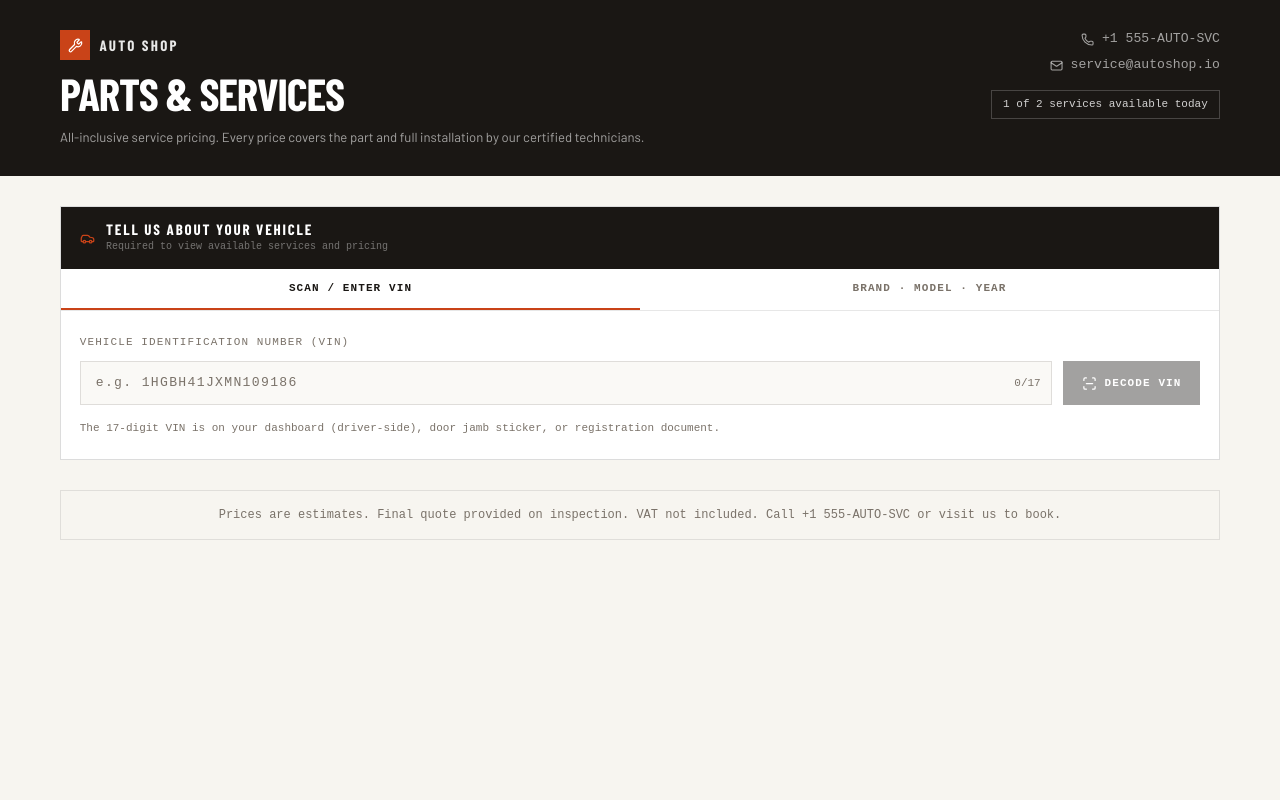
Test case: CustomerPortal vehicle gate › lists services from a manual brand, model and year selection
The width and height of the screenshot is (1280, 800).
Click the button "Brand · Model · Year": (930,290) [640, 269, 1219, 310]
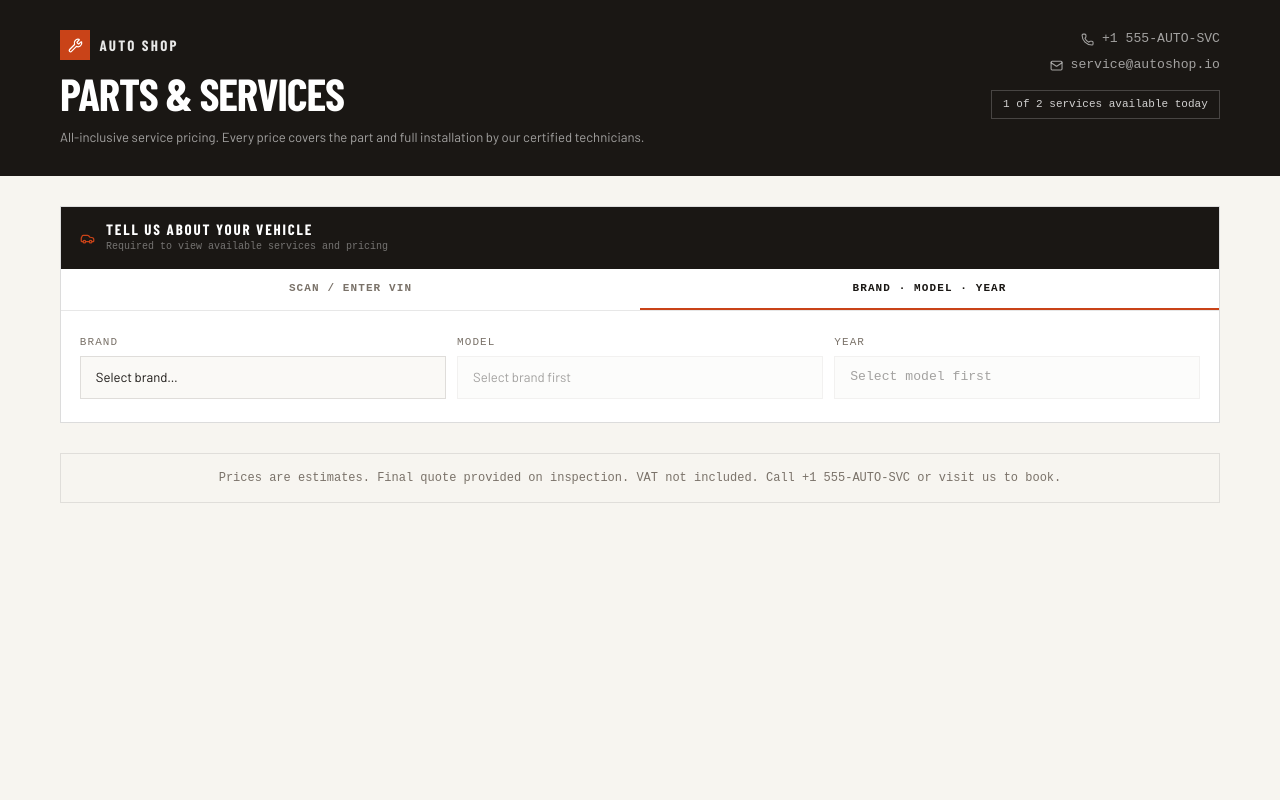
Select "Ford" in the dropdown named "Brand": (263,377) [80, 356, 446, 399]
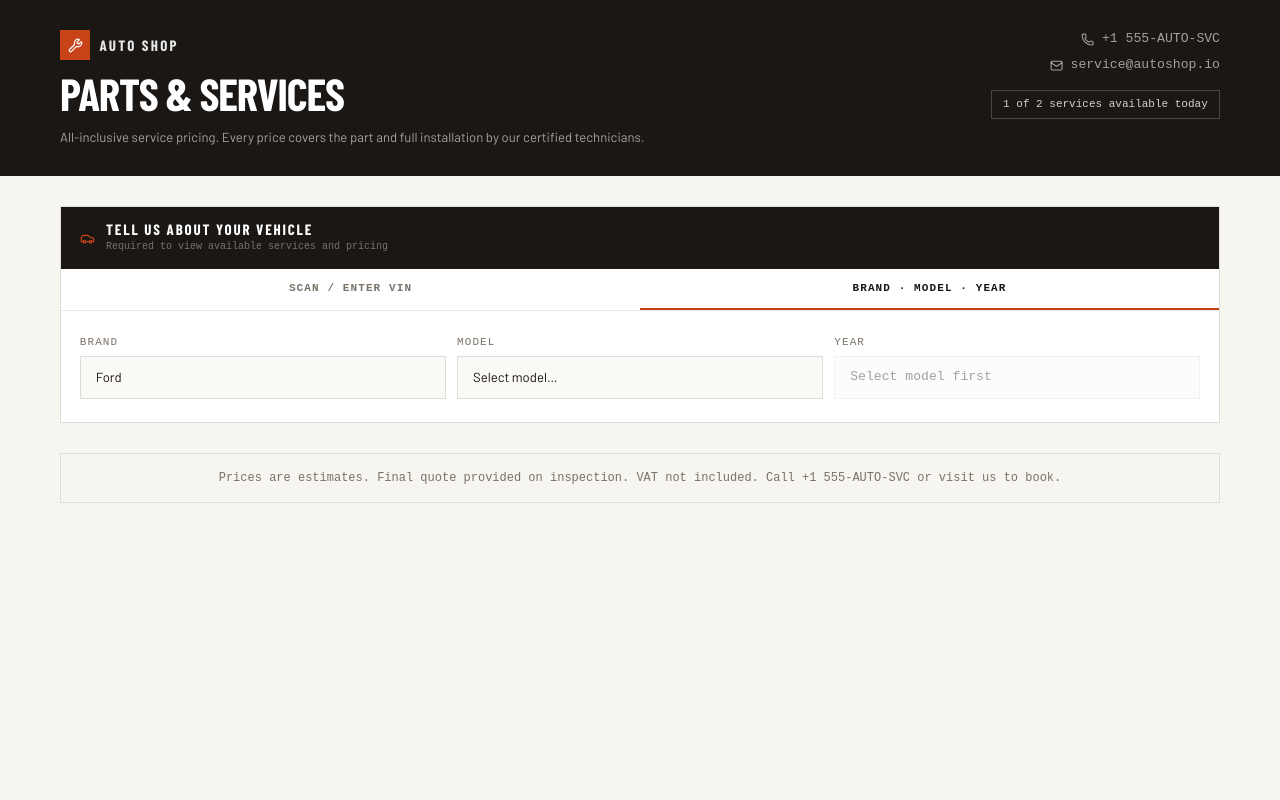
Select "F-150" in the dropdown named "Model": (640,377) [457, 356, 823, 399]
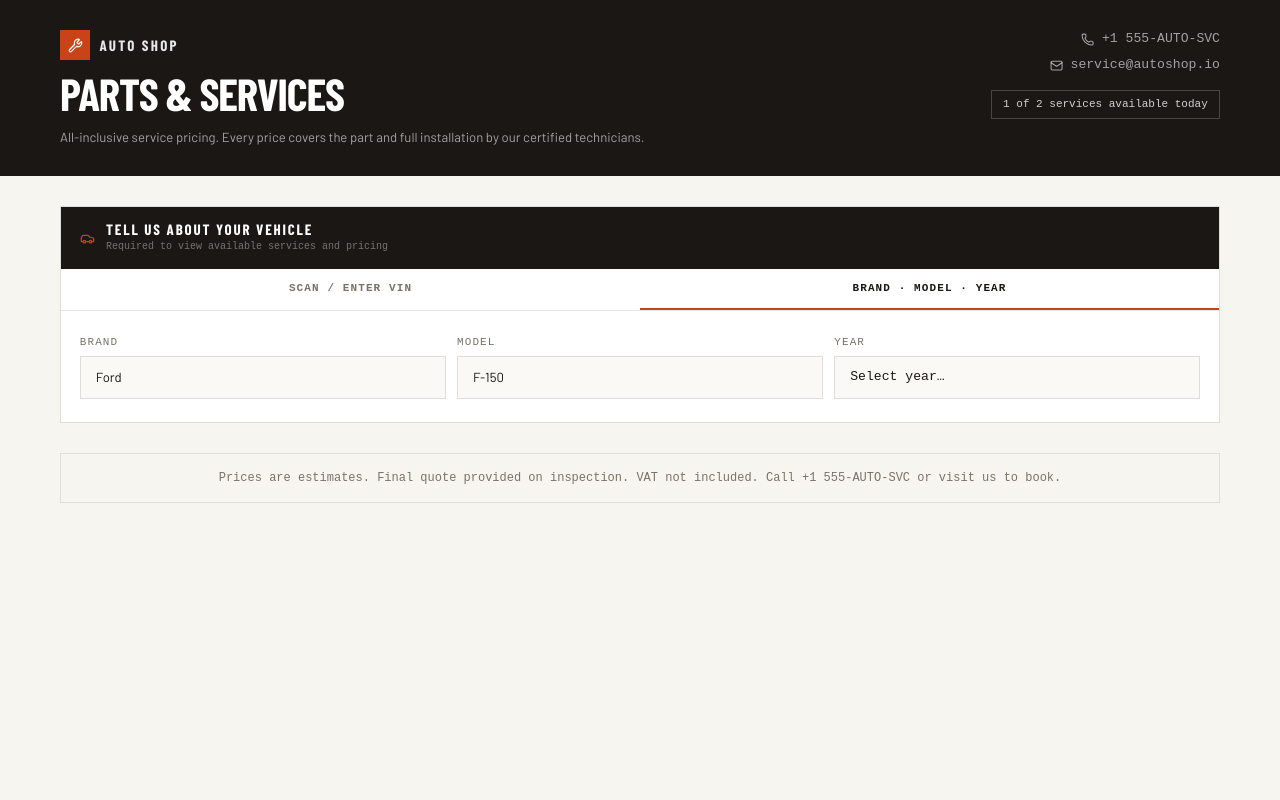
Select "2021" in the dropdown named "Year": (1017,377) [834, 356, 1200, 399]
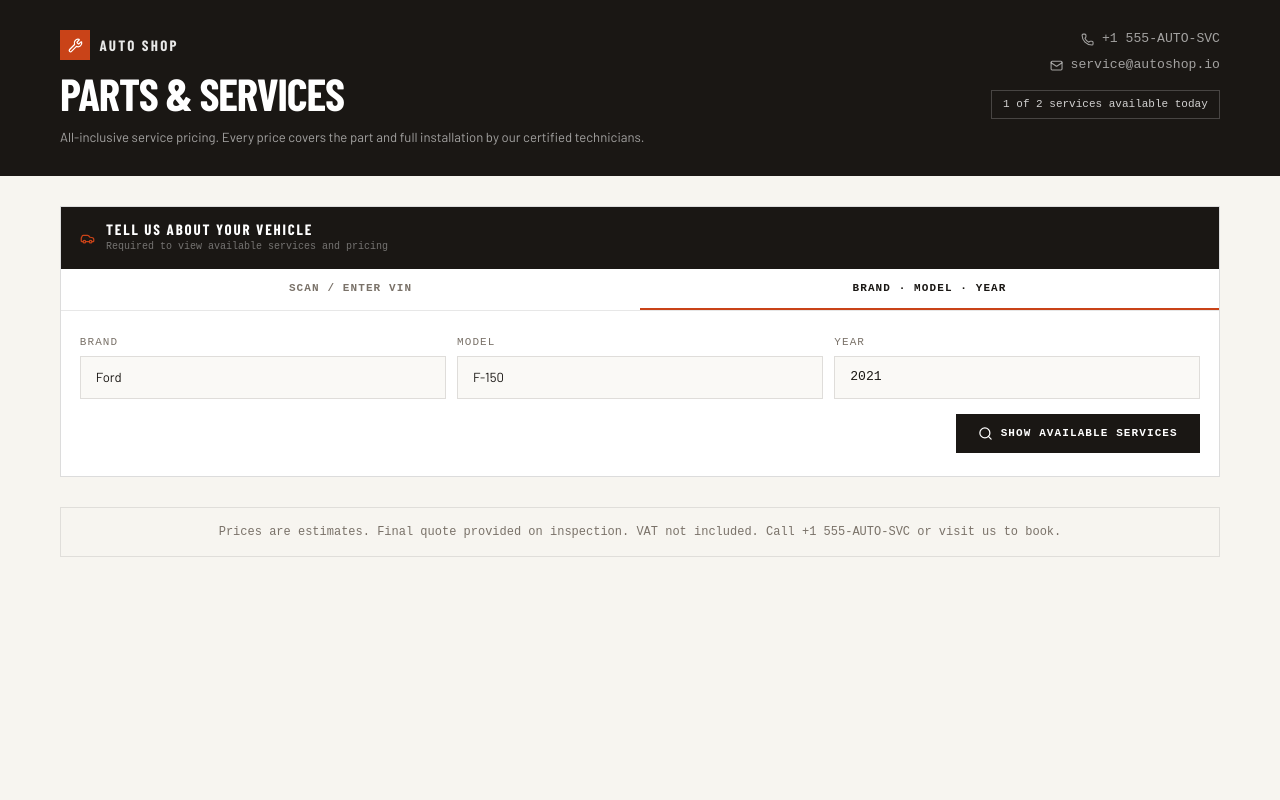
Click the button "Show Available Services": (1078,434) [956, 414, 1200, 453]
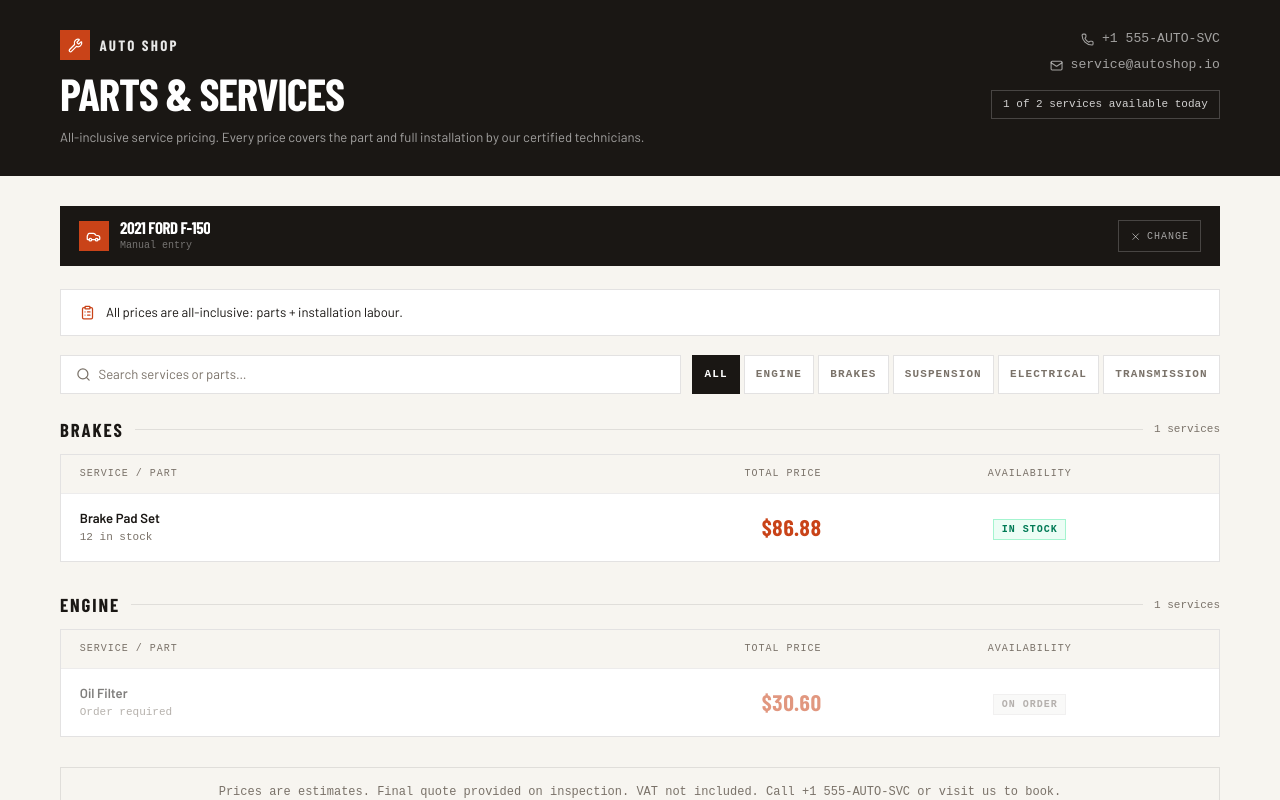
Now the text "2021 Ford F-150" is shown, box [120, 219, 210, 236]
Now the text "Manual entry" is shown, box [120, 240, 192, 251]
Now the text "Brake Pad Set" is shown, box [80, 510, 160, 526]
